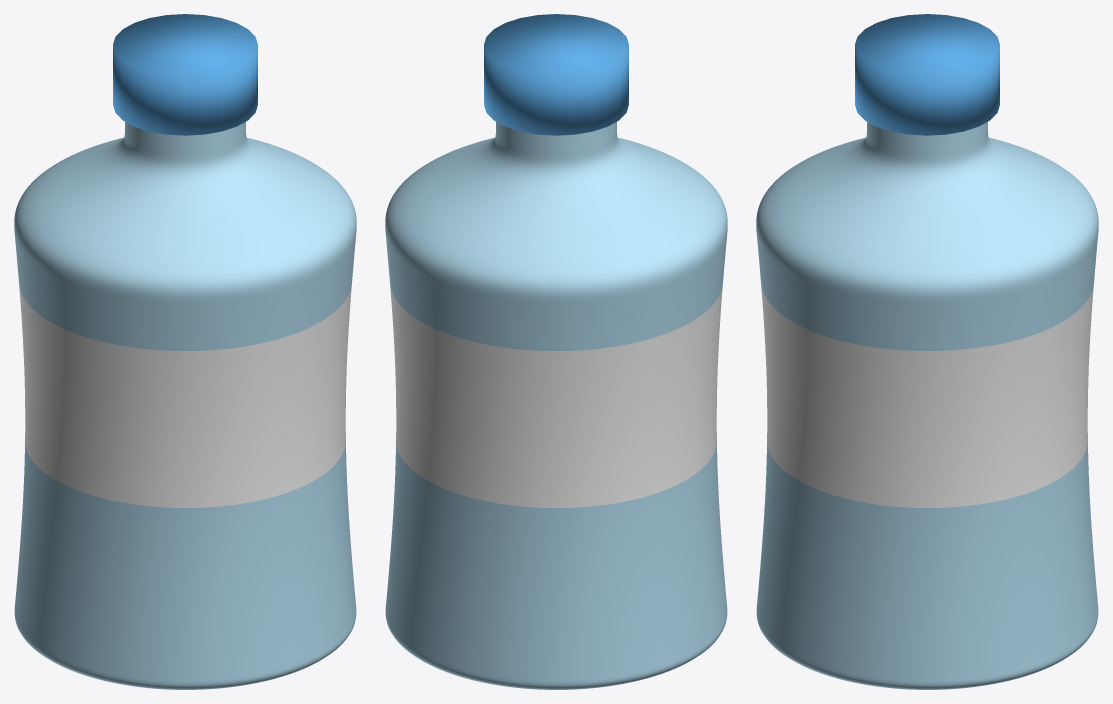
The model's file is Agua.glb.
3 views of the same model, side by side, from view 1: azimuth 30°, elevation 25°; view 2: azimuth 150°, elevation 25°; view 3: azimuth 270°, elevation 25° (orthographic).
Visible parts, largest first — view 1: Bottle_Body, Bottle_Cap; view 2: Bottle_Body, Bottle_Cap; view 3: Bottle_Body, Bottle_Cap.
Boxes of the visible parts, x1,y1,x2,y2 form: Bottle_Body: [14, 122, 356, 689]; Bottle_Cap: [113, 14, 257, 135]; Bottle_Body: [385, 122, 727, 689]; Bottle_Cap: [484, 14, 628, 135]; Bottle_Body: [756, 122, 1098, 689]; Bottle_Cap: [855, 14, 999, 135].
Size of the model in its own units: 0.874 by 1.67 by 0.874.
